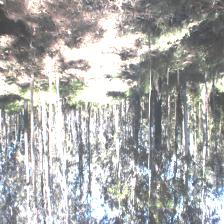trunktrack_idkeyframe: (154, 90, 162, 141), (30, 75, 35, 141), (24, 99, 28, 151)
